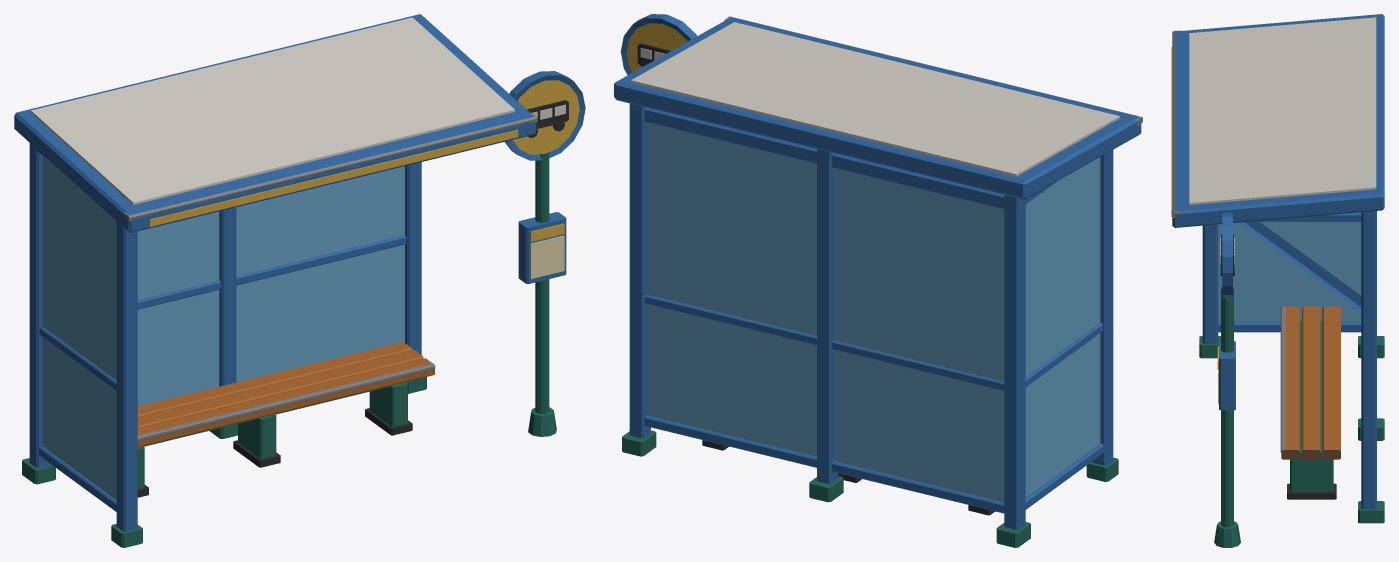
The model's file is otobus_duragi.glb.
3 views of the same model, side by side, from view 1: azimuth 30°, elevation 25°; view 2: azimuth 150°, elevation 25°; view 3: azimuth 270°, elevation 25° (orthographic). The views are drawn at different scales.
Parts seen in each view (by area): view 1: otobus_duragi; view 2: otobus_duragi; view 3: otobus_duragi.
Boxes of the visible parts, box(x1,y1,x2,y2) form: otobus_duragi: box(14, 14, 585, 547); otobus_duragi: box(614, 14, 1142, 547); otobus_duragi: box(1171, 14, 1384, 547).
Size of the model in its own units: 3.6 by 2.6 by 1.51.
